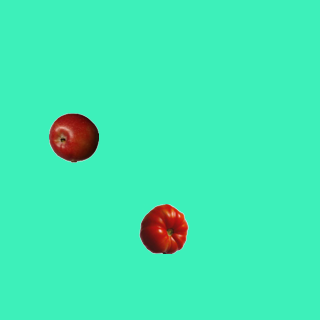Apple Braeburn: (48, 112, 98, 162)
Tomato 3: (138, 203, 188, 253)
